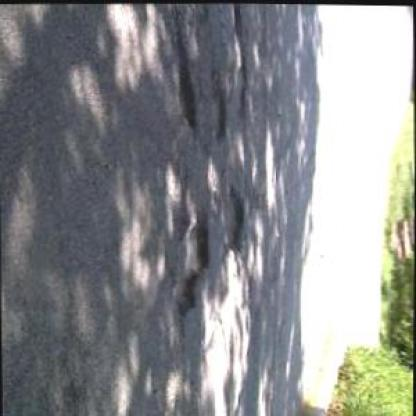pothole: (171, 216, 214, 315), (172, 64, 200, 130), (224, 184, 247, 254)
